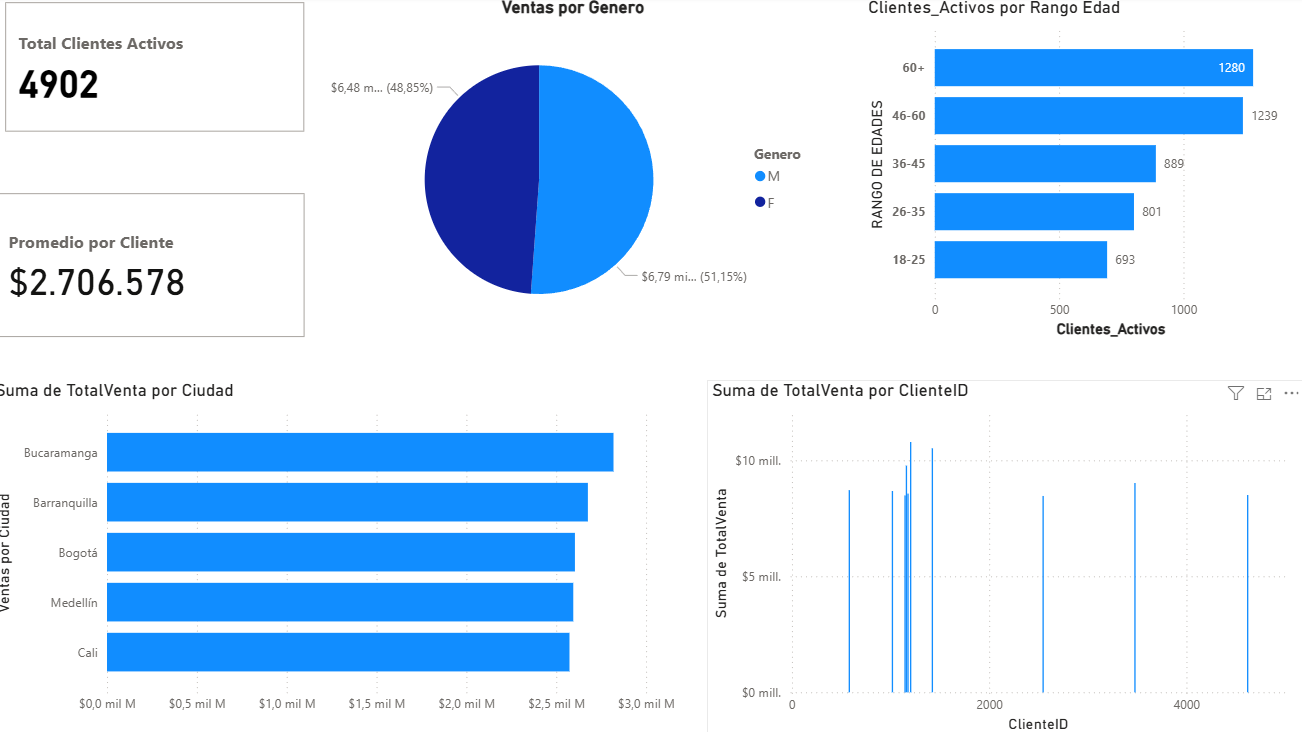

The page's visual inventory and layout, read from the dashboard file:
{"tool":"powerbi","page":{"name":"Analisis de Clientes","canvas":[1280,720],"ordinal":1},"visuals":[{"type":"cardVisual","fields":{"Data":["Fact_Ventas.Clientes_Activos"]},"box":[9.7,0,271.4,136.2],"z":0},{"type":"cardVisual","fields":{"Data":["Fact_Ventas.Promedio"]},"box":[0,185.8,281.1,150.8],"z":1000},{"type":"barChart","fields":{"Category":["Dim_Clientes.Ciudad"],"Y":["Sum(Fact_Ventas.TotalVenta)"]},"box":[0,372.5,671.1,347.2],"z":2000},{"type":"pieChart","title":"Ventas por Genero","fields":{"Category":["Dim_Clientes.Genero"],"Y":["Fact_Ventas.Total_ventas"]},"box":[298.6,0,535,336.5],"z":3000},{"type":"barChart","fields":{"Category":["Dim_Clientes.Rango Edad"],"Y":["Fact_Ventas.Clientes_Activos"]},"box":[849.1,0,430.9,336.5],"z":4000},{"type":"columnChart","fields":{"Category":["Dim_Clientes.ClienteID"],"Y":["Sum(Fact_Ventas.TotalVenta)"]},"box":[697.3,372.3,582.1,347.7],"z":5000}]}

Visuals, with their boxes in screenshot pixels (x1, y1, x2, y2), scaled from the page's 1280x720 canvas onto the 1302x732 screenshot:
cardVisual - Fact_Ventas.Clientes_Activos: (10, 0, 286, 138)
cardVisual - Fact_Ventas.Promedio: (0, 189, 286, 342)
barChart - Dim_Clientes.Ciudad x Sum(Fact_Ventas.TotalVenta): (0, 379, 683, 731)
"Ventas por Genero" pieChart: (304, 0, 848, 342)
barChart - Dim_Clientes.Rango Edad x Fact_Ventas.Clientes_Activos: (864, 0, 1301, 342)
columnChart - Dim_Clientes.ClienteID x Sum(Fact_Ventas.TotalVenta): (709, 379, 1301, 731)
